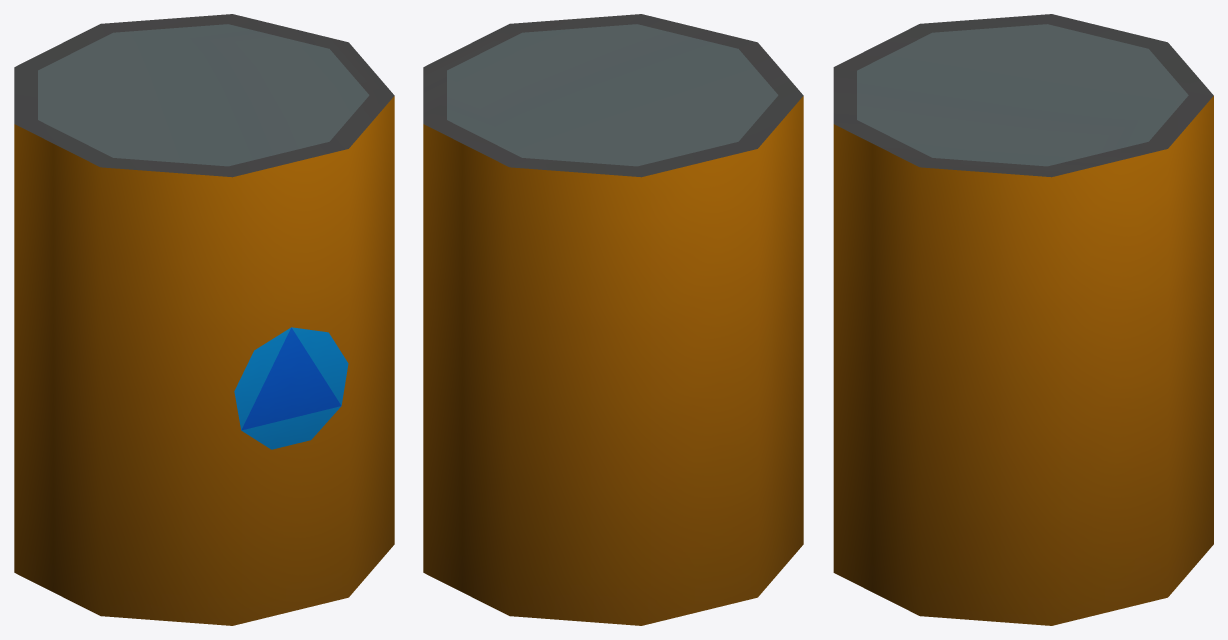
Rendered from TSP_Can_01B.fbx.
The picture shows the model from 3 angles, left to right: view 1: azimuth 30°, elevation 25°; view 2: azimuth 150°, elevation 25°; view 3: azimuth 270°, elevation 25°; orthographic projection.
Visible parts, largest first — view 1: TSP_Can_01B; view 2: TSP_Can_01B; view 3: TSP_Can_01B.
Boxes of the visible parts, x1=… form: TSP_Can_01B: x1=14, y1=14, x2=394, y2=625; TSP_Can_01B: x1=423, y1=14, x2=803, y2=625; TSP_Can_01B: x1=833, y1=14, x2=1213, y2=625.
Bounding box in the file's own units: 0.155 × 0.1989 × 0.1532.
